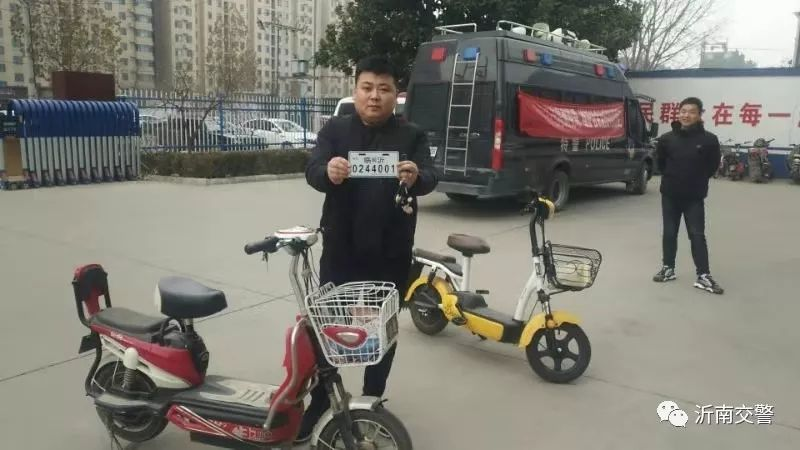电动车: (65, 214, 421, 450), (401, 188, 614, 389)
